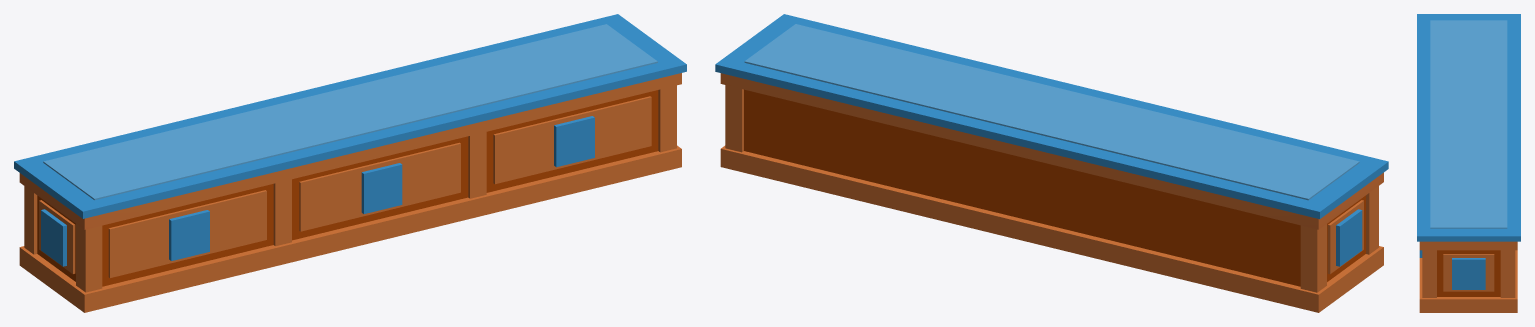
The model's file is Cafe Front Desk LV3.fbx.
3 views of the same model, side by side, from view 1: azimuth 30°, elevation 25°; view 2: azimuth 150°, elevation 25°; view 3: azimuth 270°, elevation 25° (orthographic). The views are drawn at different scales.
Parts seen in each view (by area): view 1: Cafe_Front_Desk_lv3; view 2: Cafe_Front_Desk_lv3; view 3: Cafe_Front_Desk_lv3.
Part boxes in pixels (<box>): Cafe_Front_Desk_lv3: <box>14,14,686,312</box>; Cafe_Front_Desk_lv3: <box>715,14,1388,312</box>; Cafe_Front_Desk_lv3: <box>1417,14,1520,312</box>.
Size of the model in its own units: 827 by 137 by 163.
